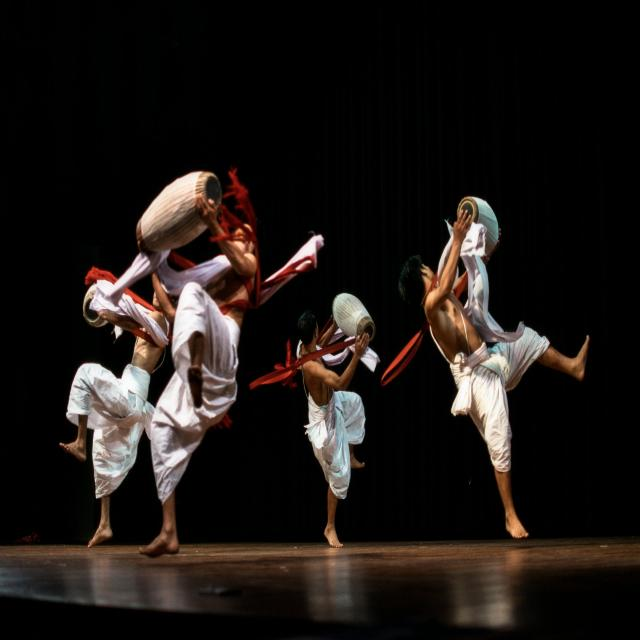stand: (132, 175, 281, 562), (404, 236, 534, 538), (52, 265, 176, 548), (286, 298, 366, 542)
